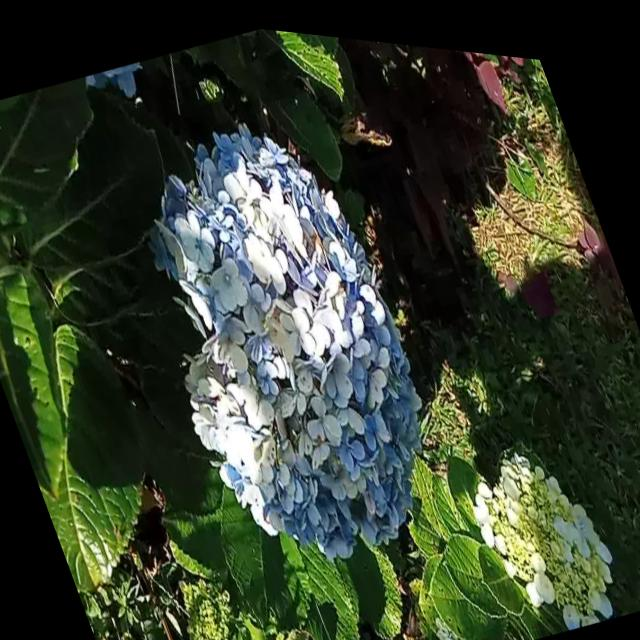Flower: (99, 78, 474, 592)
